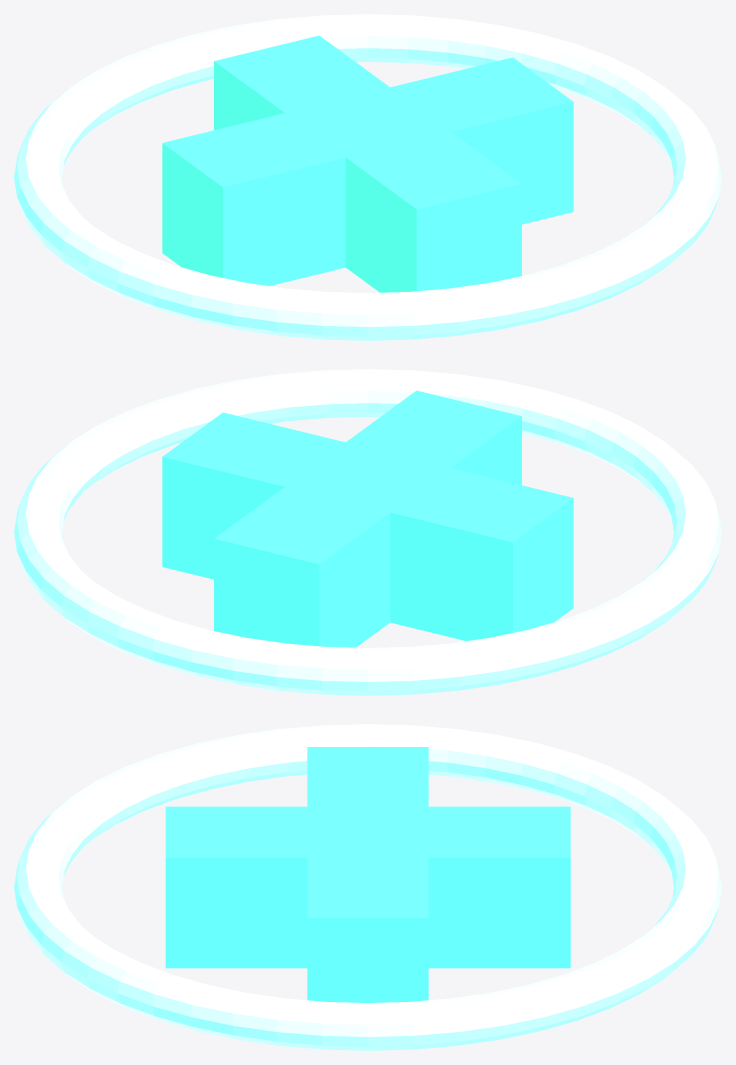
The model's file is Item_Reparacion.glb.
3 renders of one model, top to bottom at view 1: azimuth 30°, elevation 25°; view 2: azimuth 150°, elevation 25°; view 3: azimuth 270°, elevation 25°, orthographic.
Visible parts, largest first — view 1: Torus, Cube, Cube.001; view 2: Torus, Cube, Cube.001; view 3: Torus, Cube.001, Cube.
Part boxes in pixels (x1,y1,x2,y2): Torus: (14, 14, 721, 340); Cube: (162, 57, 573, 285); Cube.001: (214, 35, 521, 292); Torus: (14, 369, 721, 695); Cube: (162, 412, 573, 640); Cube.001: (214, 390, 521, 647); Torus: (14, 724, 721, 1050); Cube.001: (165, 806, 570, 968); Cube: (307, 747, 428, 1002).
Bounding box in the file's own units: 2.36 × 0.405 × 2.36.
